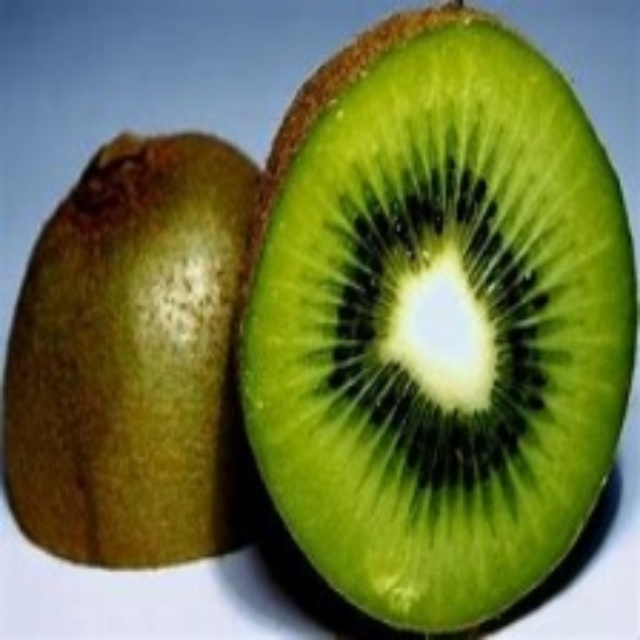kiwi: (245, 12, 628, 636), (1, 131, 280, 580)
